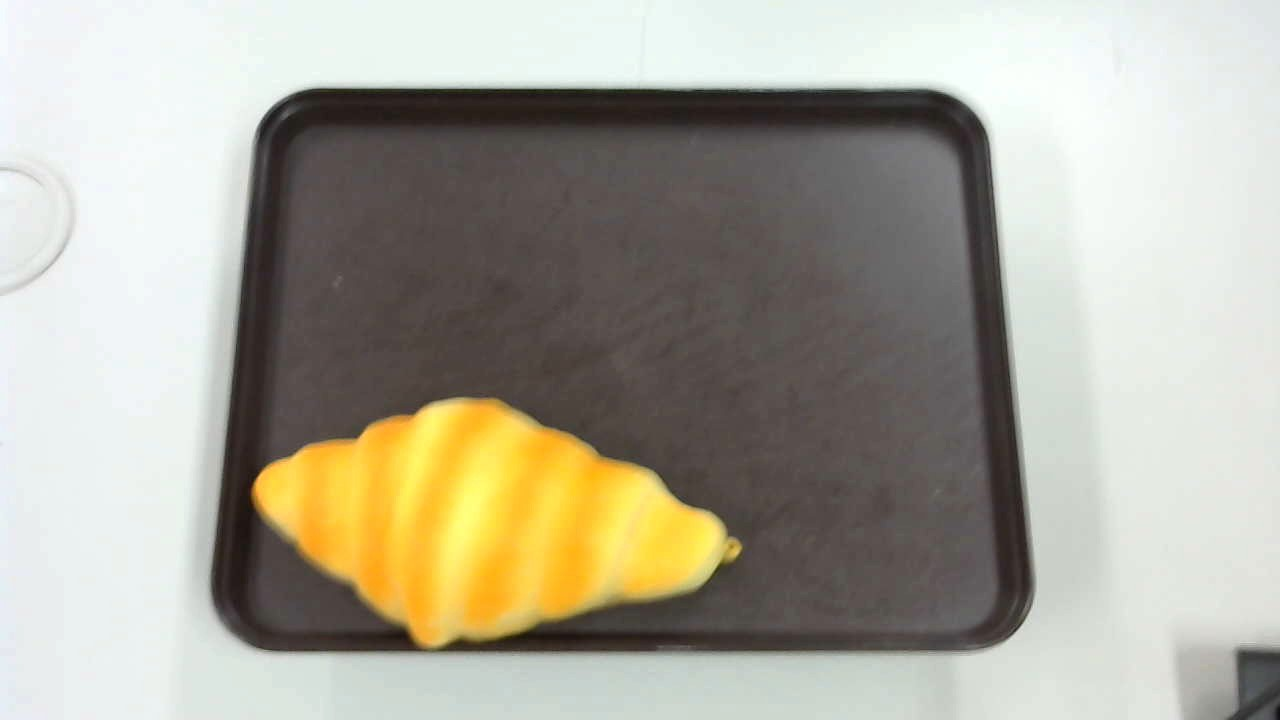croissant: (252, 395, 743, 652)
